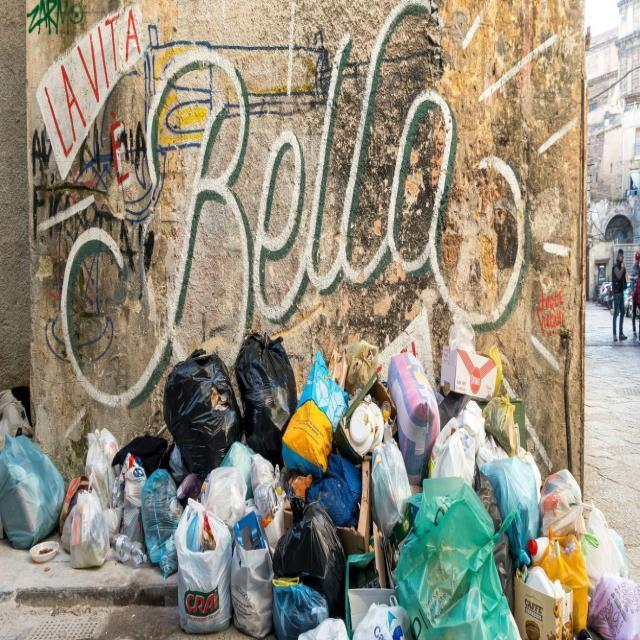high trash: (0, 334, 640, 640)
